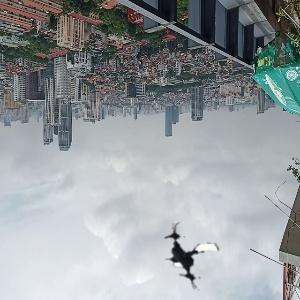drone: (155, 222, 225, 292)
